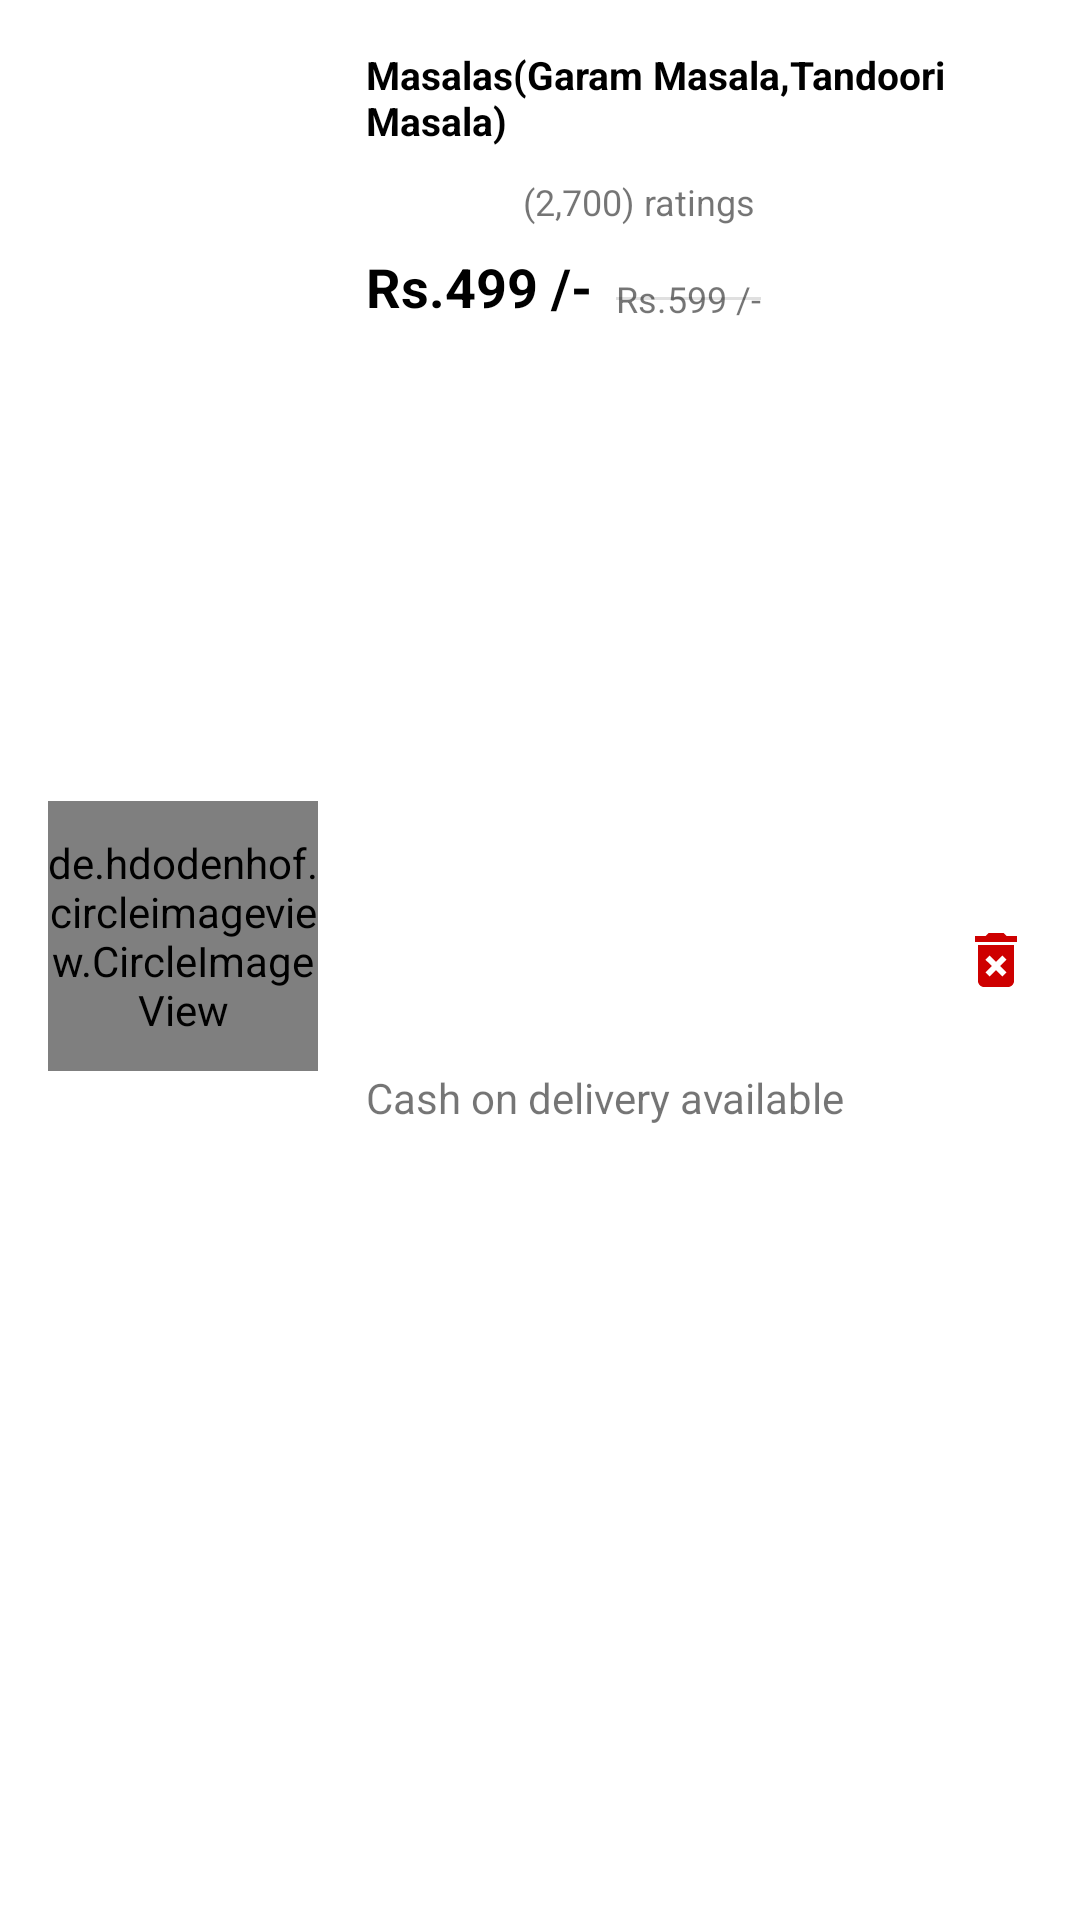

Locate icon controls on the screen. Image size 1080w x 1920h, boxes as (x1, y1, x2, y2).
deletefinalred: (975, 933, 1017, 987)
